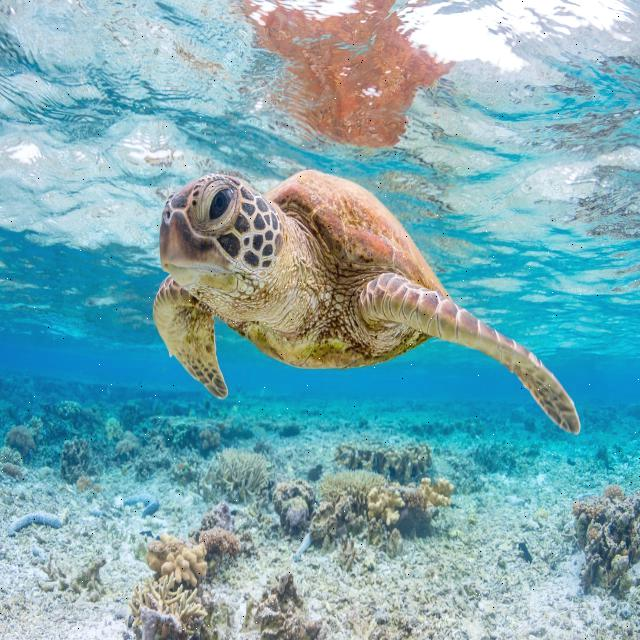tortoise: (133, 166, 583, 437)
